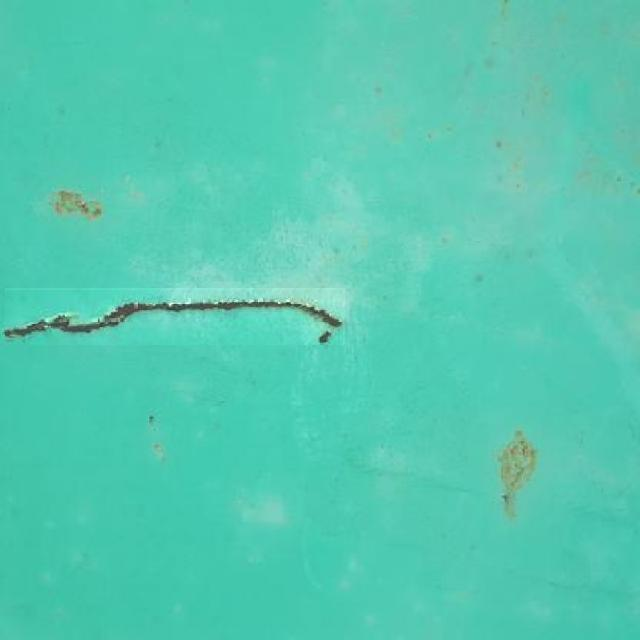horizontal crack: (5, 290, 343, 344)
